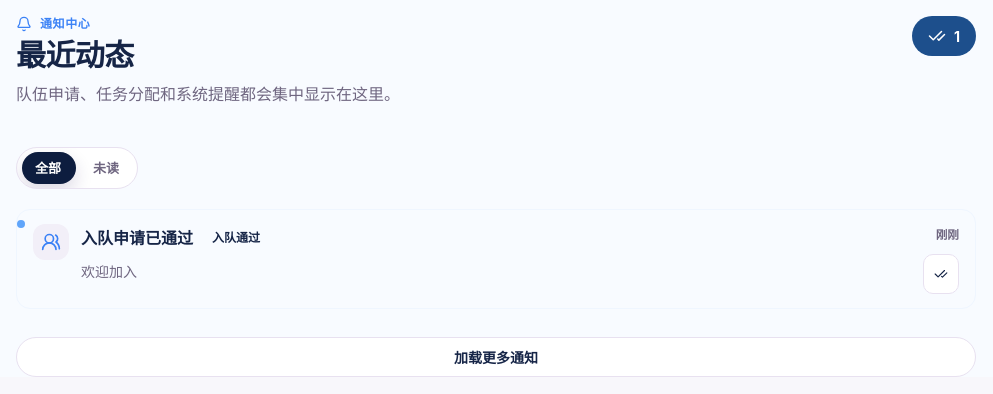
Test case: NotificationsPage › renders notifications and marks one as read
Expected: the heading "入队申请已通过" is shown, 81,227 -> 193,249
Click the button named "标记已读".
click(941, 274)  # box 923,254 -> 959,294
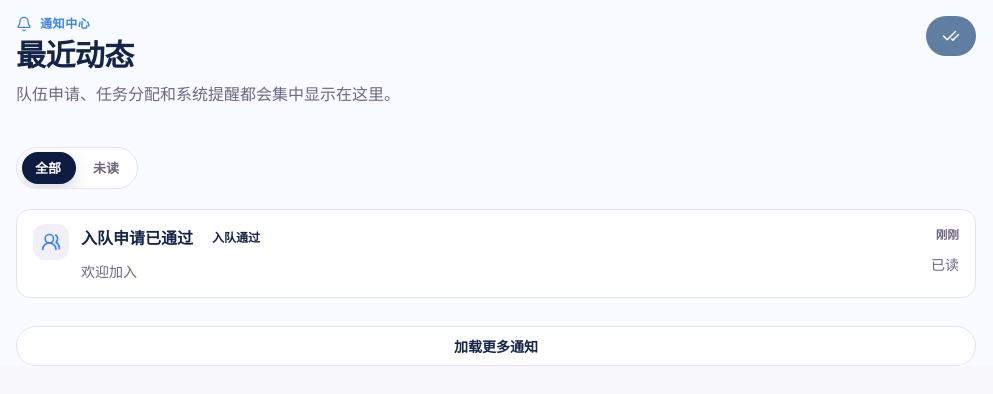
Result: the text "已读" is shown at 931,254 -> 959,276
